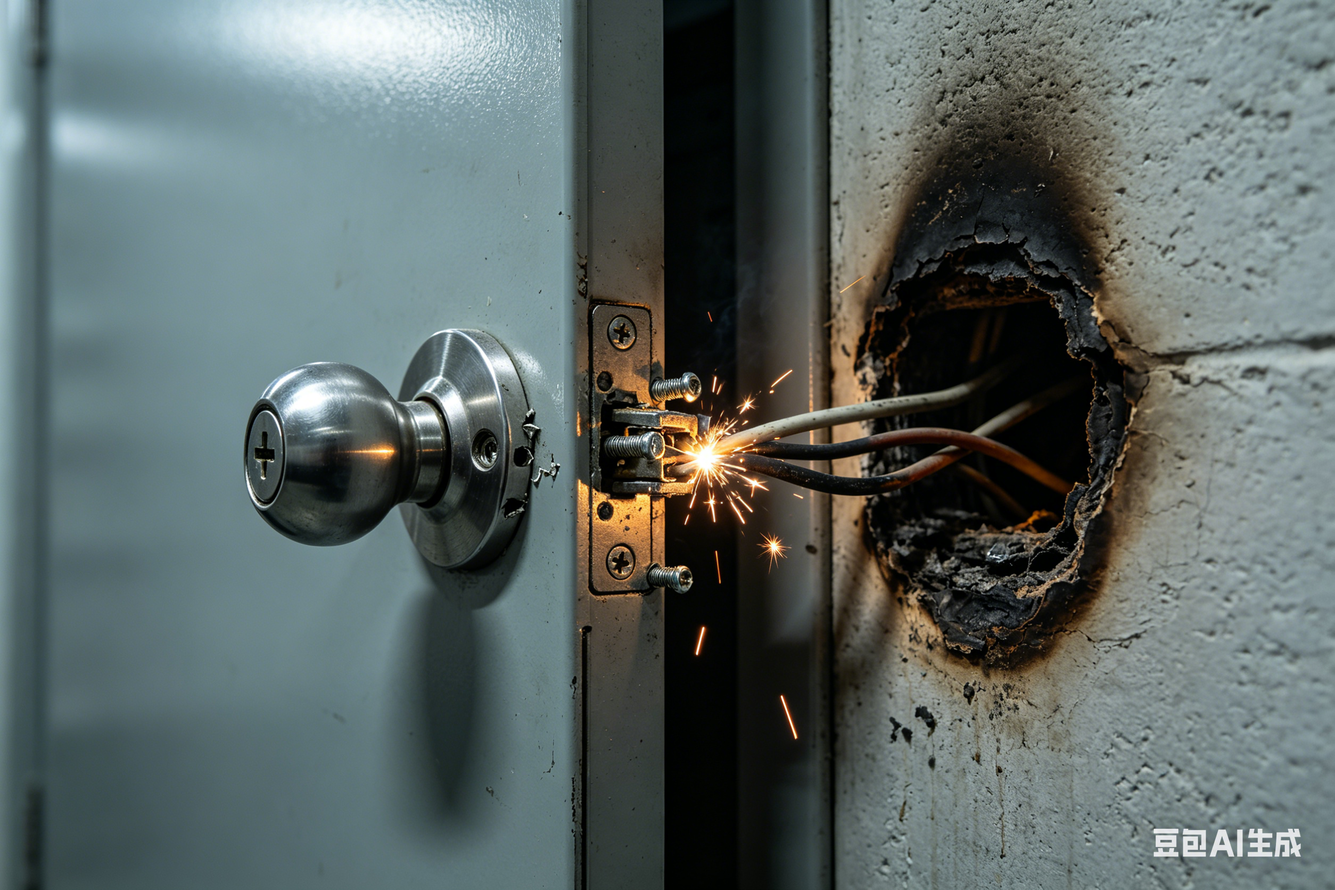BadLock: (586, 303, 714, 597)
